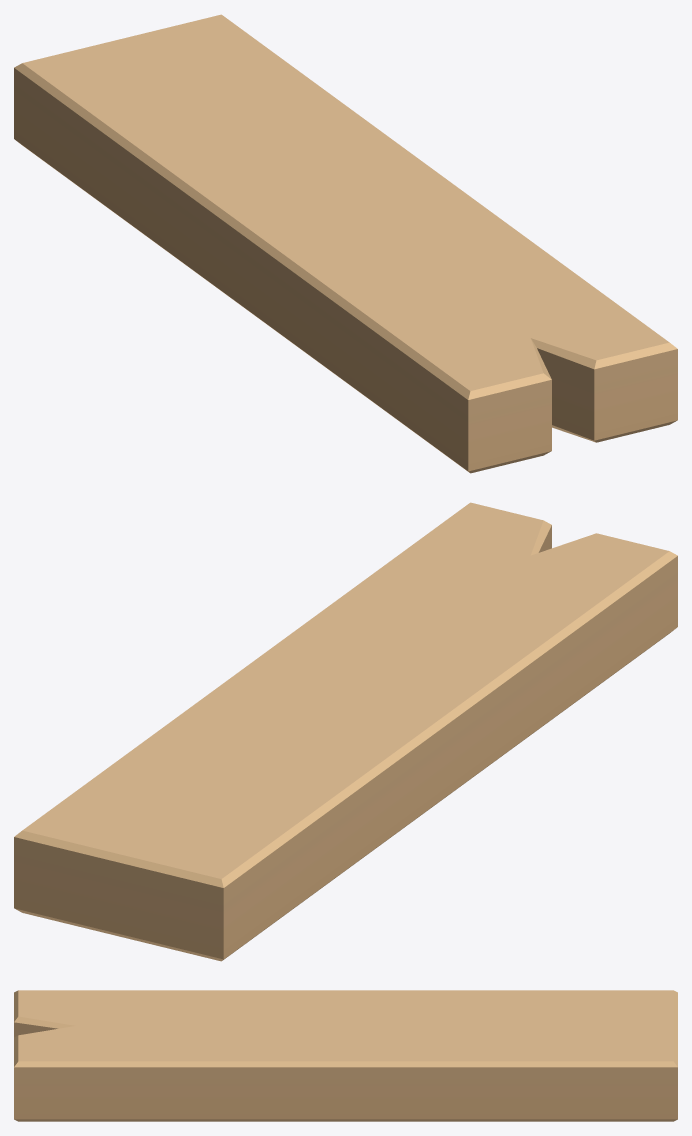
Rendered from Madeira refinada.fbx.
3 renders of one model, top to bottom at view 1: azimuth 30°, elevation 25°; view 2: azimuth 150°, elevation 25°; view 3: azimuth 270°, elevation 25°, orthographic. The views are drawn at different scales.
Parts seen in each view (by area): view 1: Madeira refinada.001; view 2: Madeira refinada.001; view 3: Madeira refinada.001.
Part boxes in pixels (box(x1,y1,x2,y2)): Madeira refinada.001: box(14, 14, 677, 473); Madeira refinada.001: box(14, 502, 677, 961); Madeira refinada.001: box(14, 990, 677, 1121).
Size of the model in its own units: 72.48 by 27.18 by 272.
